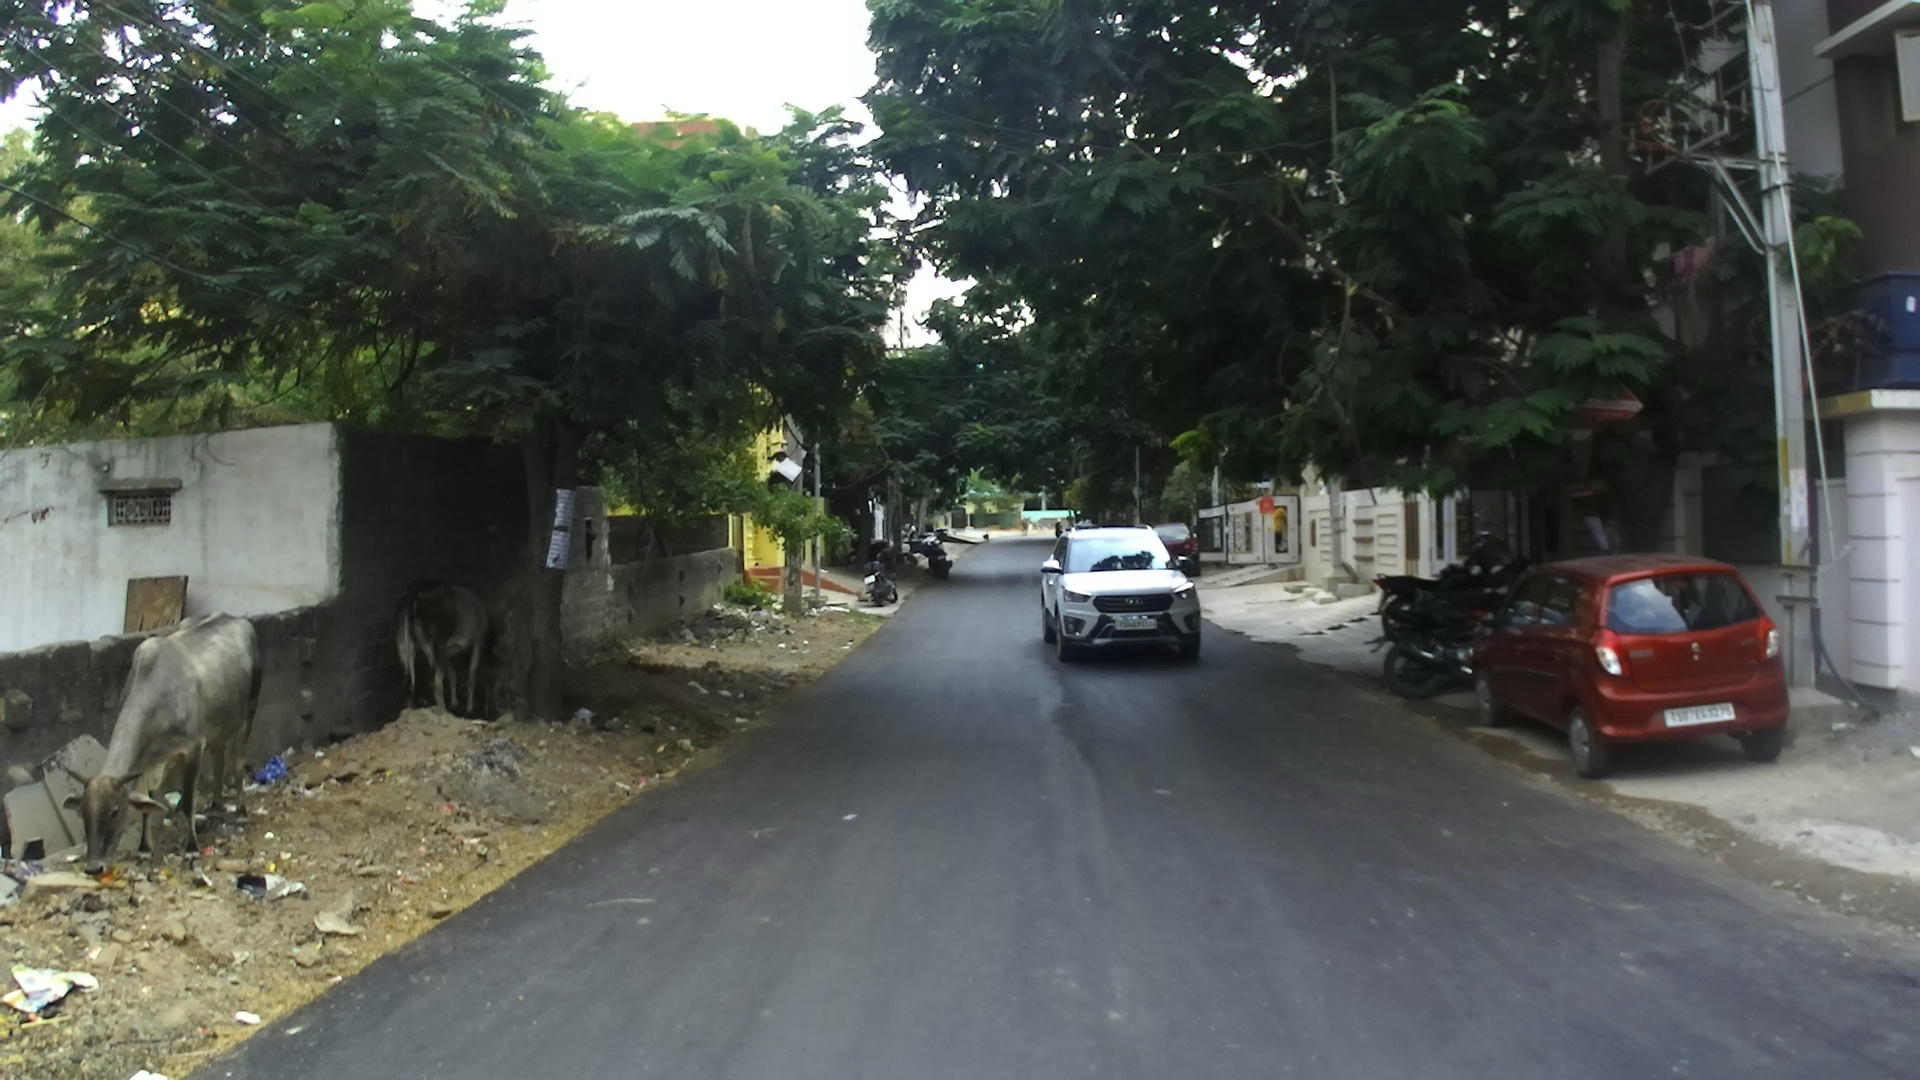vehicle: (1472, 549, 1793, 775), (1039, 526, 1201, 665), (1375, 549, 1523, 695)
